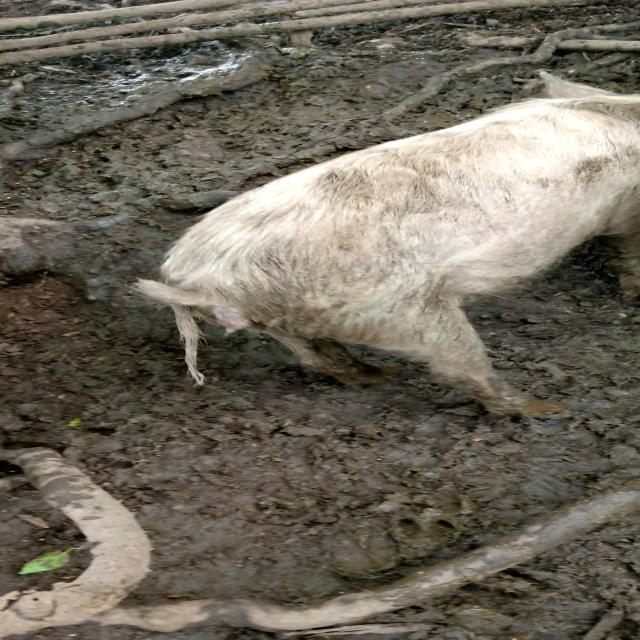pig: (55, 53, 640, 433)
